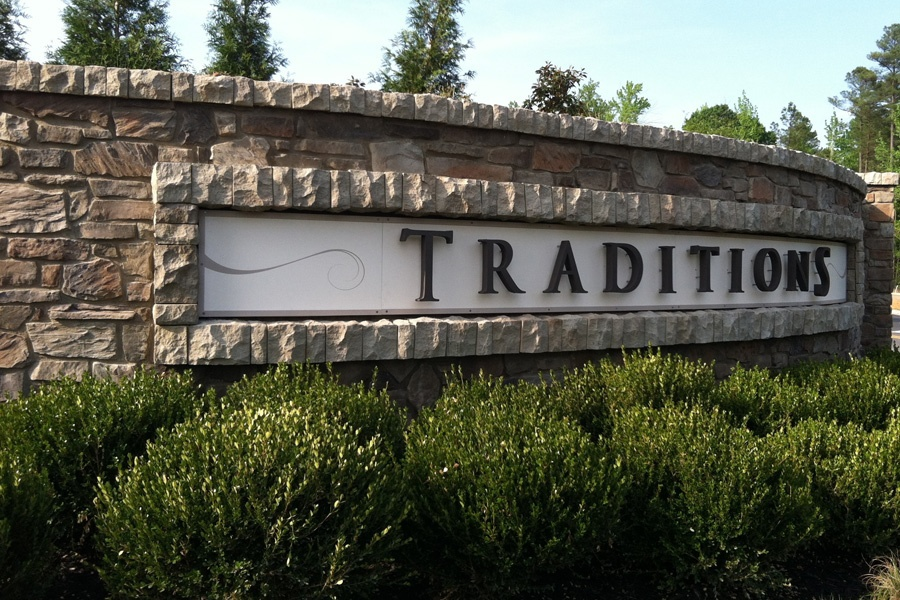text: (392, 227, 407, 304), (408, 227, 423, 304), (424, 227, 439, 304), (440, 227, 455, 304), (456, 227, 471, 304), (472, 227, 487, 304), (488, 227, 503, 304), (504, 227, 519, 304), (520, 227, 535, 304), (536, 227, 551, 304), (552, 227, 567, 304), (568, 227, 583, 304), (584, 227, 599, 304), (600, 227, 615, 304), (616, 227, 631, 304), (632, 227, 647, 304), (648, 227, 663, 304), (664, 227, 679, 304), (680, 227, 695, 304), (696, 227, 711, 304), (712, 227, 727, 304), (728, 227, 743, 304), (744, 227, 759, 304), (760, 227, 775, 304), (776, 227, 791, 304), (792, 227, 807, 304), (808, 227, 823, 304), (824, 227, 839, 304)
